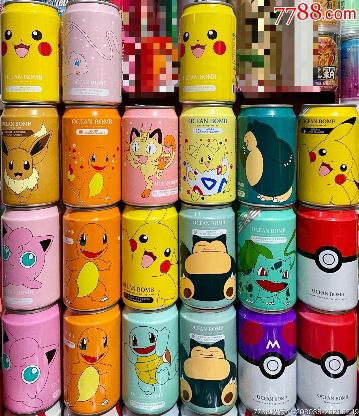Can: (296, 301, 358, 414), (2, 303, 62, 414), (297, 203, 358, 312), (238, 305, 297, 415), (237, 204, 297, 312), (63, 304, 121, 415), (180, 304, 238, 414), (122, 305, 180, 414), (2, 203, 61, 310), (298, 104, 359, 206), (63, 0, 122, 105), (1, 0, 61, 103), (63, 205, 121, 311), (237, 105, 297, 207), (122, 204, 179, 310), (179, 203, 236, 309), (1, 105, 60, 206), (62, 106, 121, 207), (180, 103, 236, 205), (122, 106, 179, 206), (180, 3, 236, 102)
